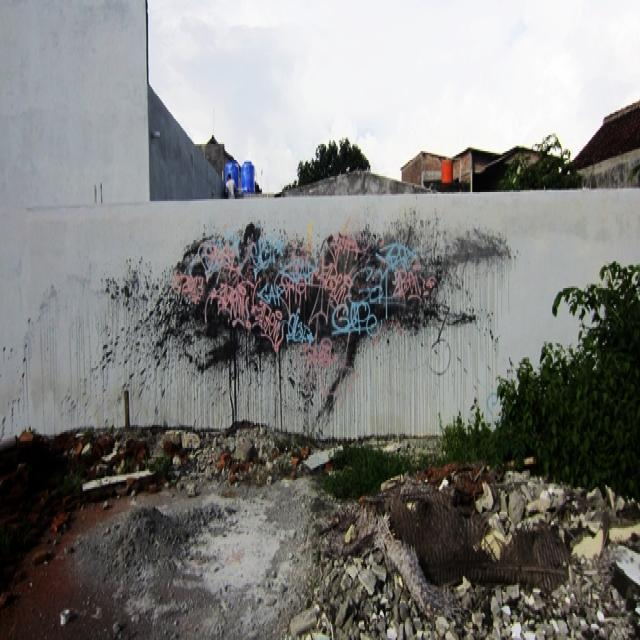-: (164, 220, 512, 374)
